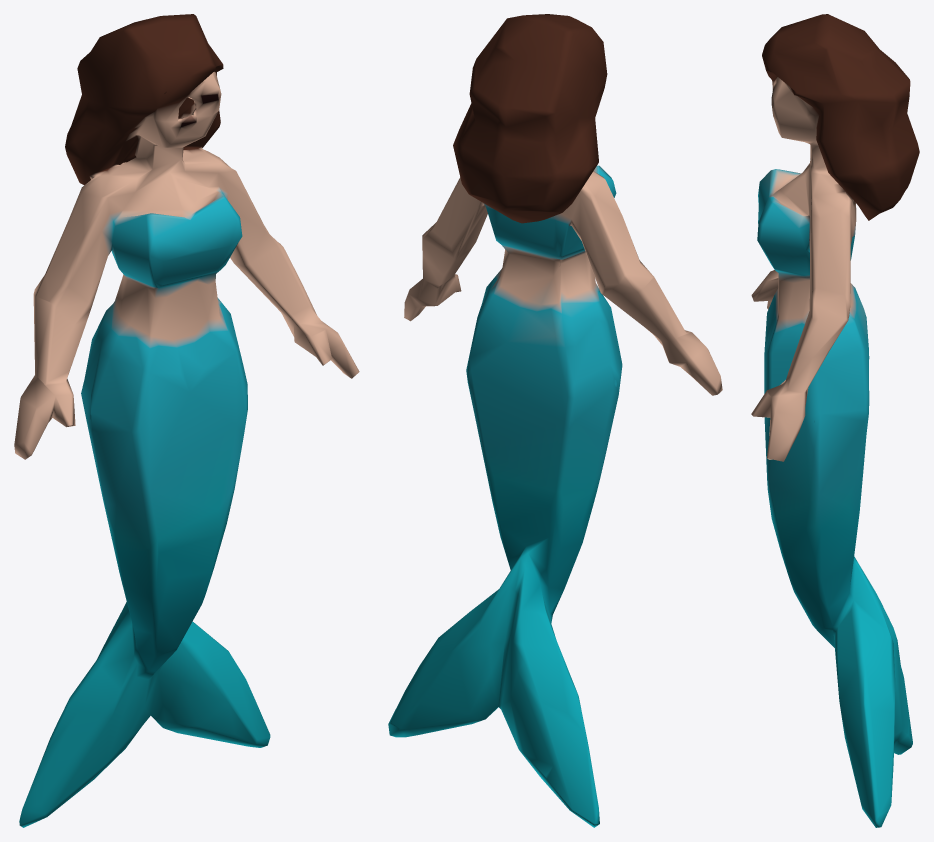
File: gen3d-mermaid-lod0.glb
3 views of the same model, side by side, from view 1: azimuth 30°, elevation 25°; view 2: azimuth 150°, elevation 25°; view 3: azimuth 270°, elevation 25° (orthographic). The views are drawn at different scales.
Parts seen in each view (by area): view 1: part_0; view 2: part_0; view 3: part_0.
Part boxes in pixels (left/top/right/bottom): part_0: left=14, top=14, right=359, bottom=827; part_0: left=388, top=14, right=722, bottom=827; part_0: left=751, top=14, right=919, bottom=827.
Size of the model in its own units: 0.4318 by 0.9977 by 0.1972.
